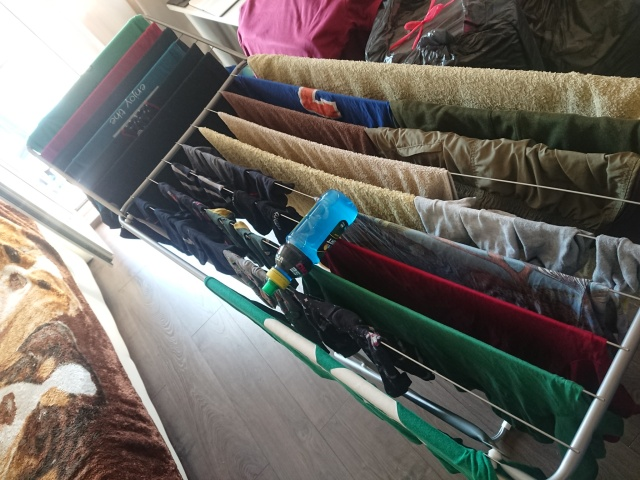Vindi Iso Sport Forest Strawberries 500mL: (260, 186, 359, 298)
